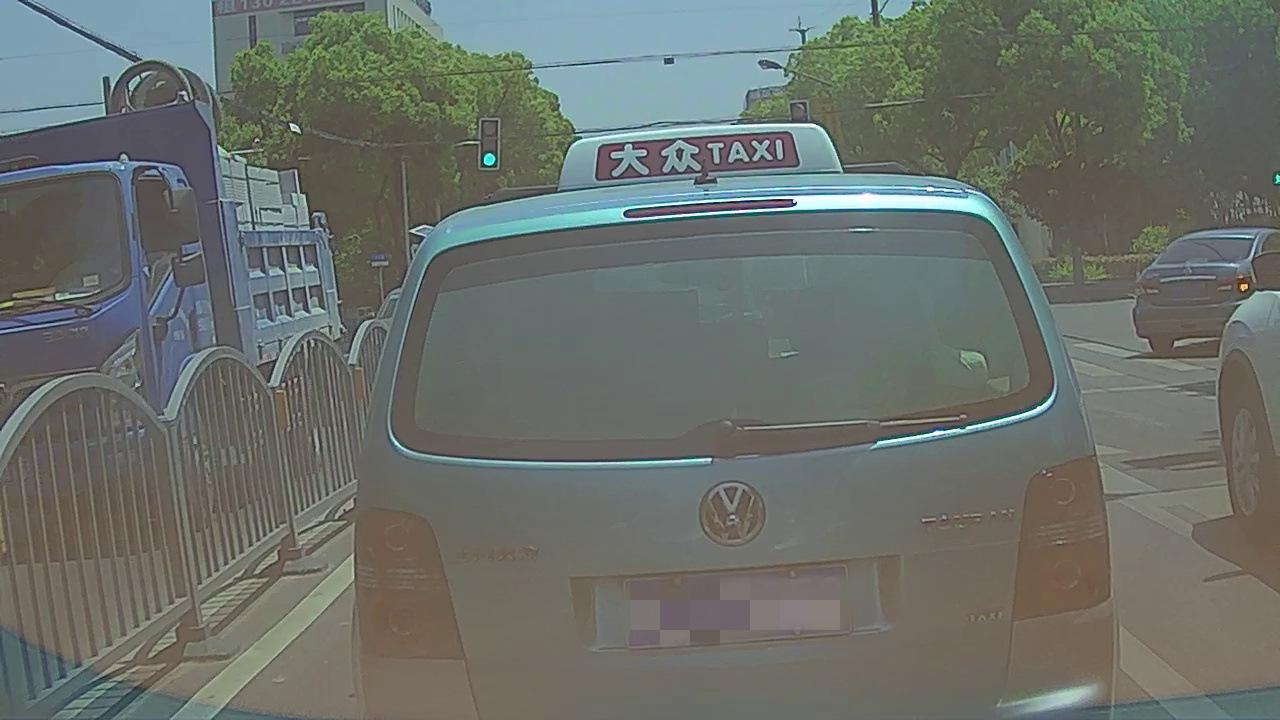traffic_light: (481, 121, 500, 168)
